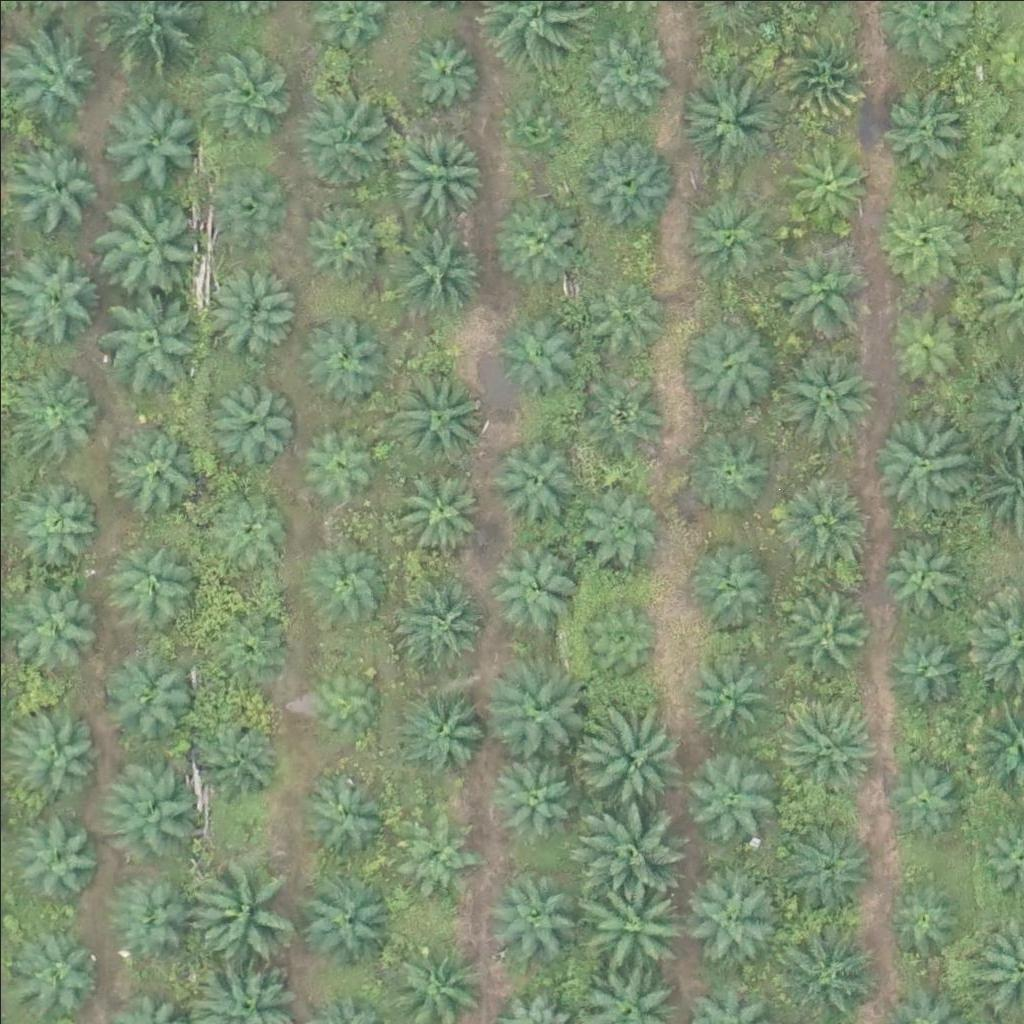Kelapa_Sawit: (93, 181, 206, 295), (94, 89, 194, 190), (300, 89, 400, 190), (573, 129, 673, 230), (681, 72, 781, 173), (871, 191, 971, 292), (868, 415, 968, 516), (772, 243, 872, 344), (776, 917, 876, 1018), (775, 700, 875, 801), (769, 469, 869, 570), (684, 866, 784, 967), (679, 320, 779, 421), (681, 187, 781, 288), (583, 866, 683, 967), (585, 713, 685, 814), (482, 657, 582, 758), (387, 361, 487, 462), (384, 221, 484, 322), (189, 855, 289, 956), (182, 707, 282, 808), (109, 411, 209, 512), (94, 286, 194, 387), (4, 574, 104, 675), (386, 123, 486, 223), (768, 26, 868, 126), (777, 342, 877, 442), (578, 796, 678, 896), (299, 865, 399, 965), (292, 761, 392, 861), (99, 754, 199, 854), (3, 249, 103, 349), (395, 680, 483, 769), (13, 142, 101, 230), (12, 26, 100, 114), (197, 42, 285, 130), (582, 21, 670, 109), (786, 136, 874, 224), (780, 813, 868, 901), (686, 542, 774, 630), (685, 422, 773, 510), (571, 478, 659, 566), (578, 364, 666, 452), (485, 746, 573, 834), (493, 535, 581, 623), (489, 434, 577, 522), (497, 305, 585, 393), (392, 811, 480, 899), (395, 575, 483, 663), (199, 596, 287, 684), (109, 869, 197, 957), (108, 648, 196, 736), (112, 536, 200, 624), (11, 811, 99, 899), (11, 704, 99, 792), (14, 471, 102, 559), (880, 526, 967, 615), (684, 655, 771, 744), (887, 85, 974, 173), (879, 305, 966, 393), (878, 873, 965, 961), (881, 752, 968, 840), (876, 622, 963, 710), (782, 584, 869, 672), (684, 746, 771, 834), (581, 269, 668, 357), (578, 587, 665, 675), (491, 189, 578, 277), (489, 867, 576, 955), (393, 461, 480, 549), (298, 197, 385, 285), (298, 315, 385, 403), (291, 419, 378, 507), (303, 542, 390, 630), (204, 479, 291, 567), (205, 370, 292, 458), (208, 262, 295, 350), (16, 364, 103, 452), (19, 922, 106, 1010), (305, 660, 380, 736), (406, 31, 481, 107), (206, 164, 281, 240), (508, 100, 570, 163)
